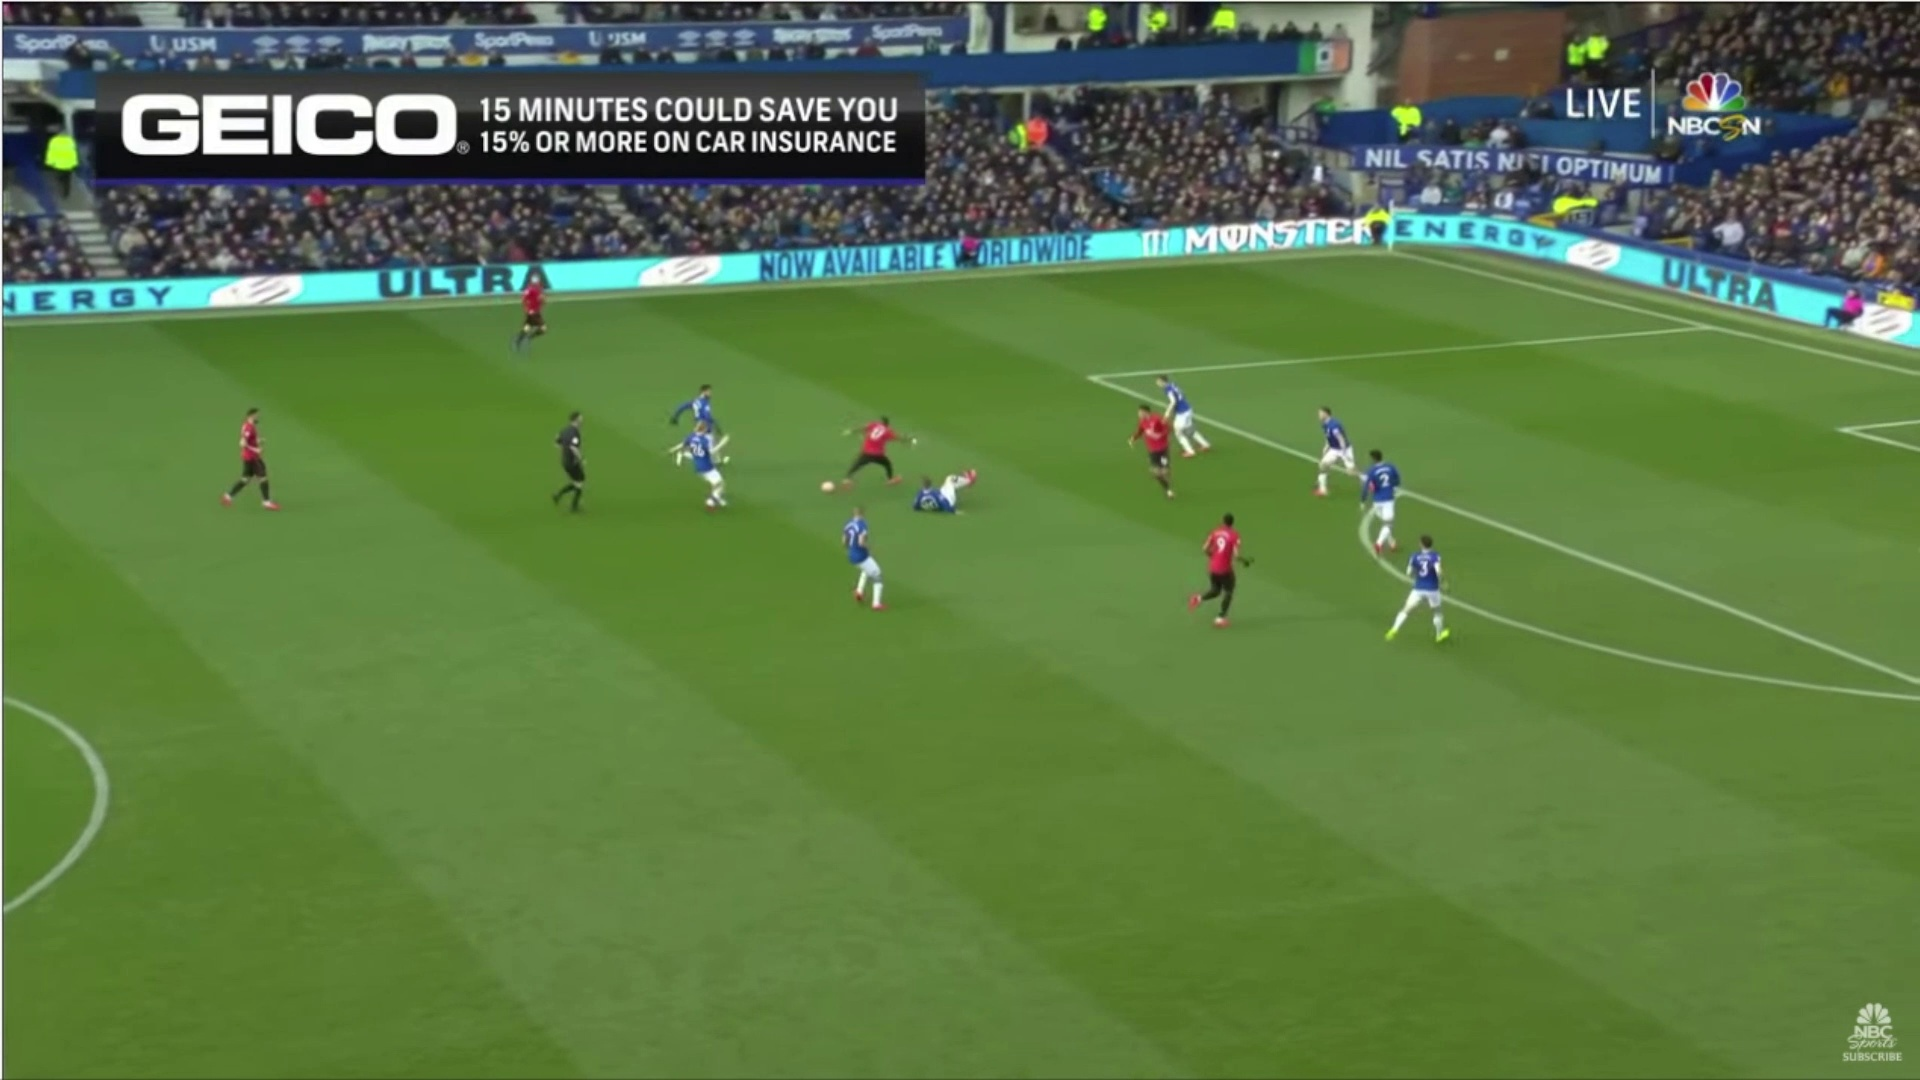ball: (808, 469, 847, 504)
player: (216, 385, 299, 529), (1385, 531, 1472, 663), (1183, 510, 1258, 646), (827, 494, 910, 617), (1295, 388, 1377, 506), (487, 262, 570, 363), (1137, 360, 1216, 462), (1114, 394, 1183, 506), (837, 417, 920, 498), (1356, 440, 1412, 558), (906, 462, 1010, 521), (689, 413, 747, 515), (670, 375, 727, 458)
